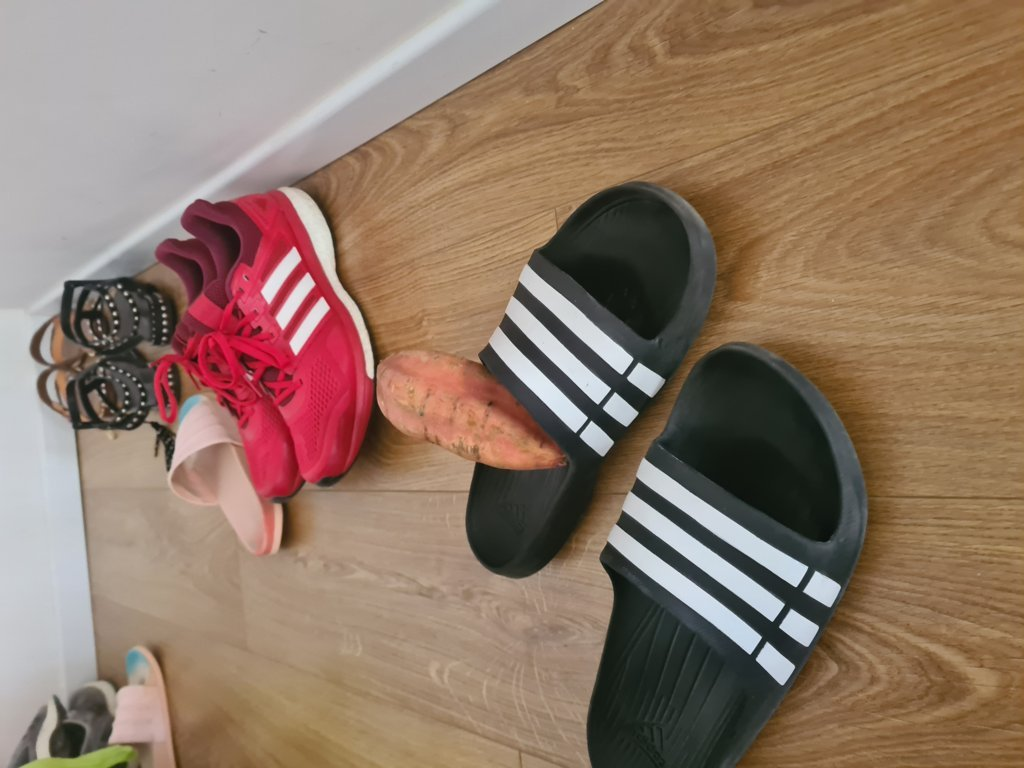Sweet Potatow: (373, 347, 573, 469)
